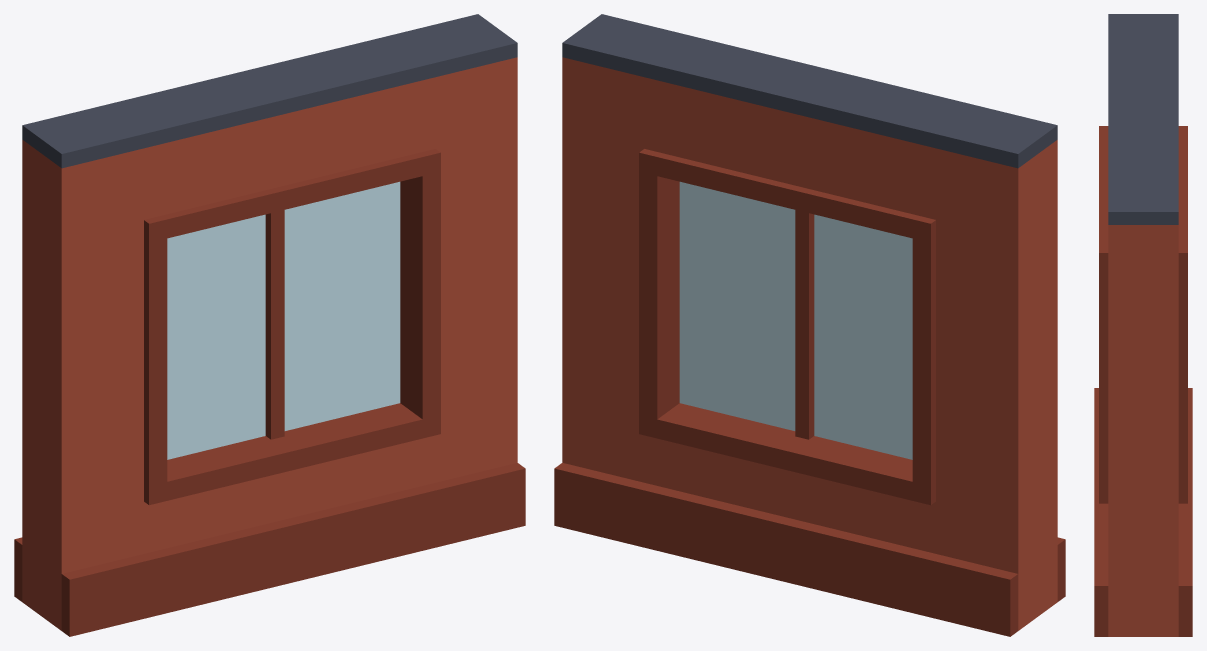
The model's file is wall-window.glb.
3 renders of one model, left to right at view 1: azimuth 30°, elevation 25°; view 2: azimuth 150°, elevation 25°; view 3: azimuth 270°, elevation 25°, orthographic. The views are drawn at different scales.
Parts seen in each view (by area): view 1: wall-window; view 2: wall-window; view 3: wall-window.
Part boxes in pixels (x1,y1,x2,y2): wall-window: (14, 14, 525, 636); wall-window: (554, 14, 1065, 636); wall-window: (1094, 14, 1192, 636).
Size of the model in its own units: 1 by 1 by 0.21.
1 material, 1 textured.
